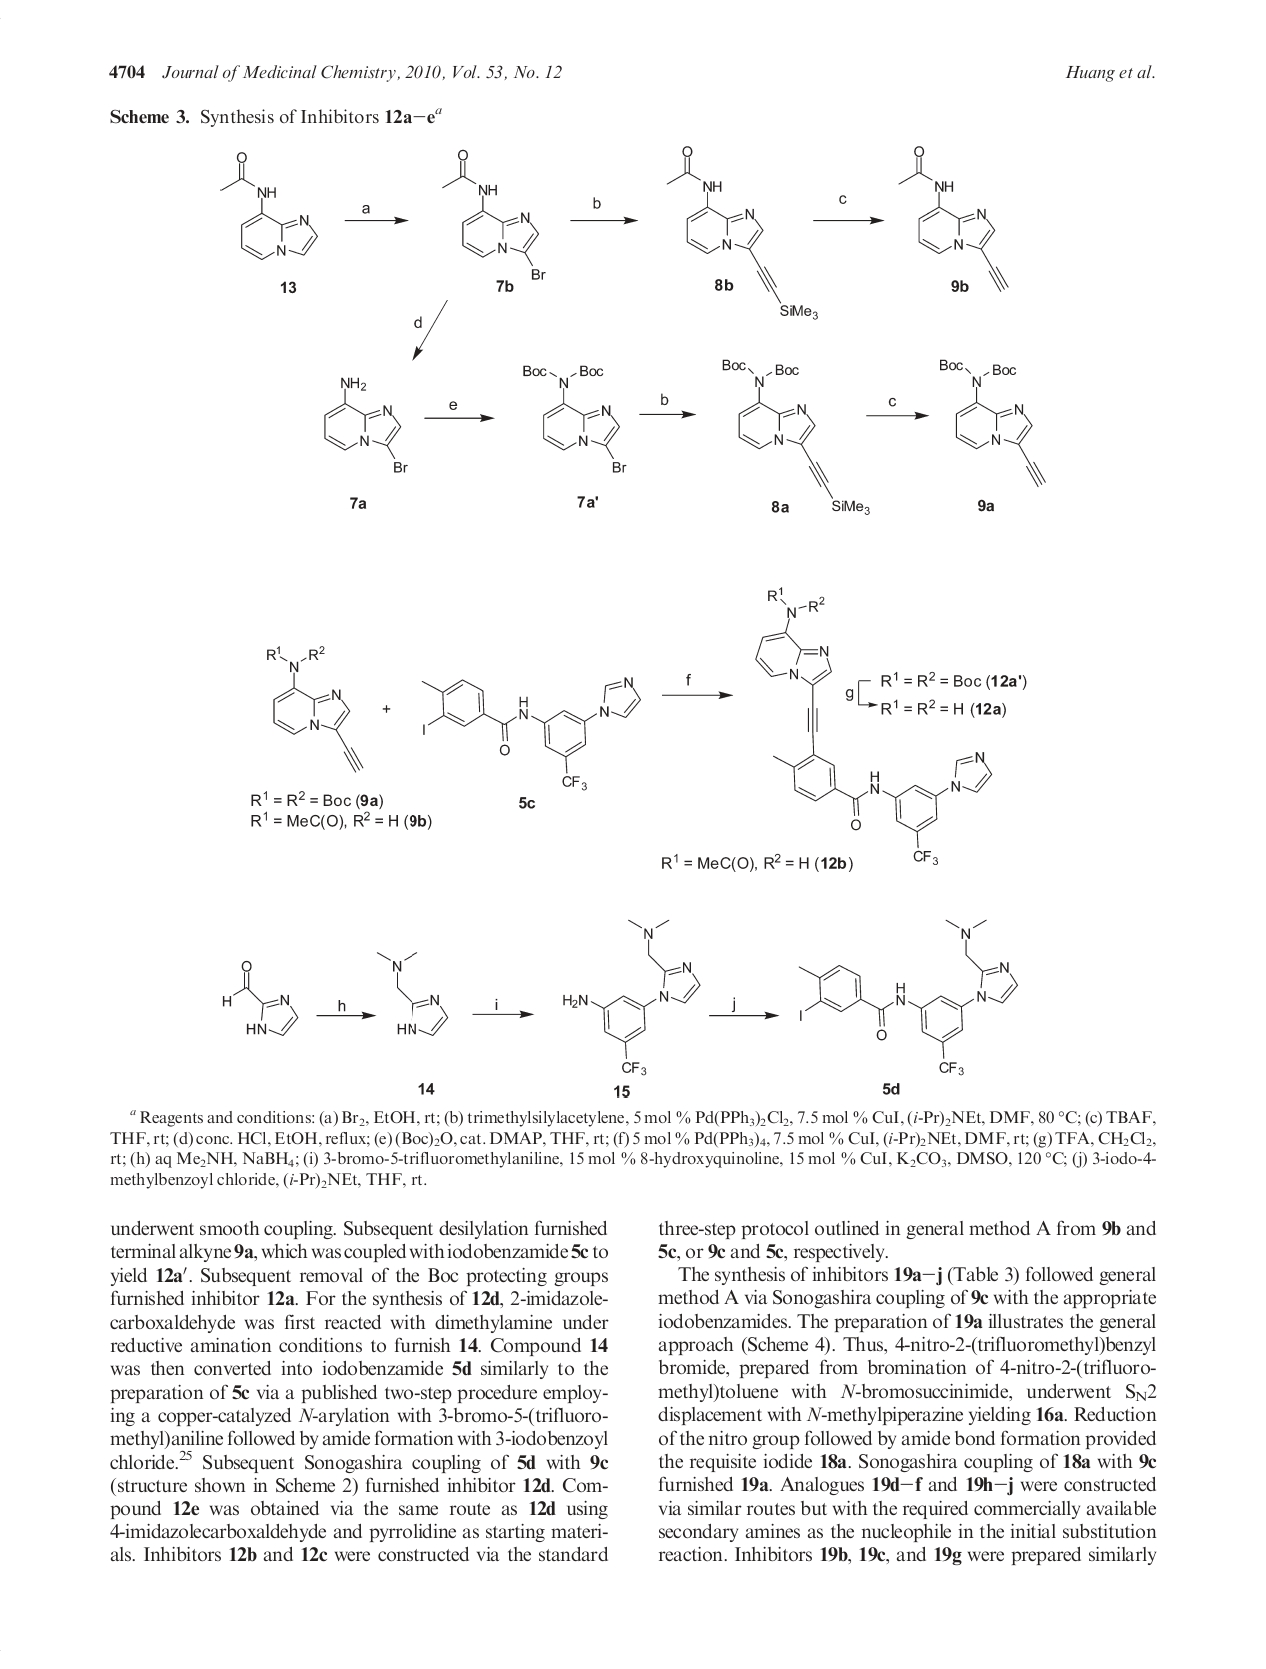exist_molecular: (751, 582, 993, 866), (797, 914, 1021, 1075), (664, 144, 818, 324), (414, 676, 641, 793), (719, 355, 872, 515), (560, 918, 702, 1079), (896, 145, 1009, 293), (936, 355, 1051, 489), (439, 145, 543, 278), (263, 638, 366, 773), (519, 364, 626, 476), (217, 150, 320, 261), (322, 371, 408, 473), (372, 948, 449, 1037), (219, 958, 298, 1040)
